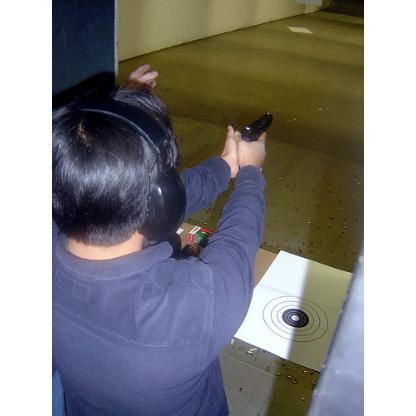gun: (233, 109, 275, 173)
